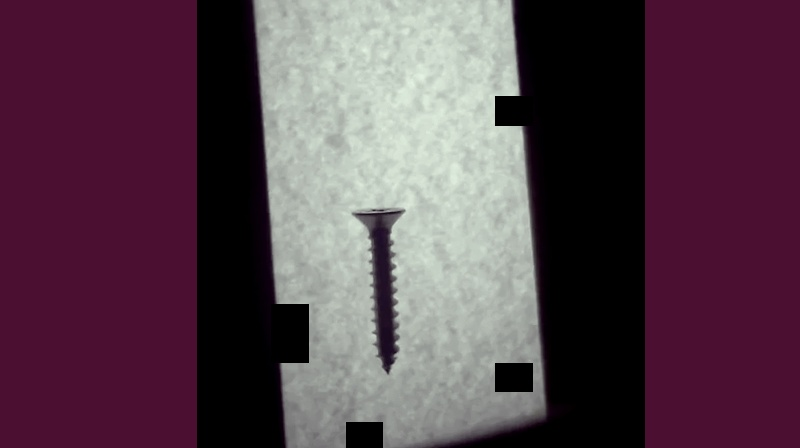S001: (350, 203, 404, 379)
